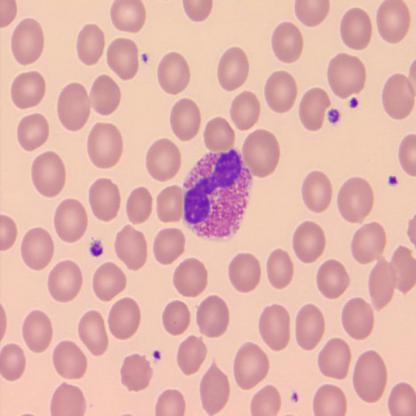Eosinophil: (184, 148, 252, 242)
